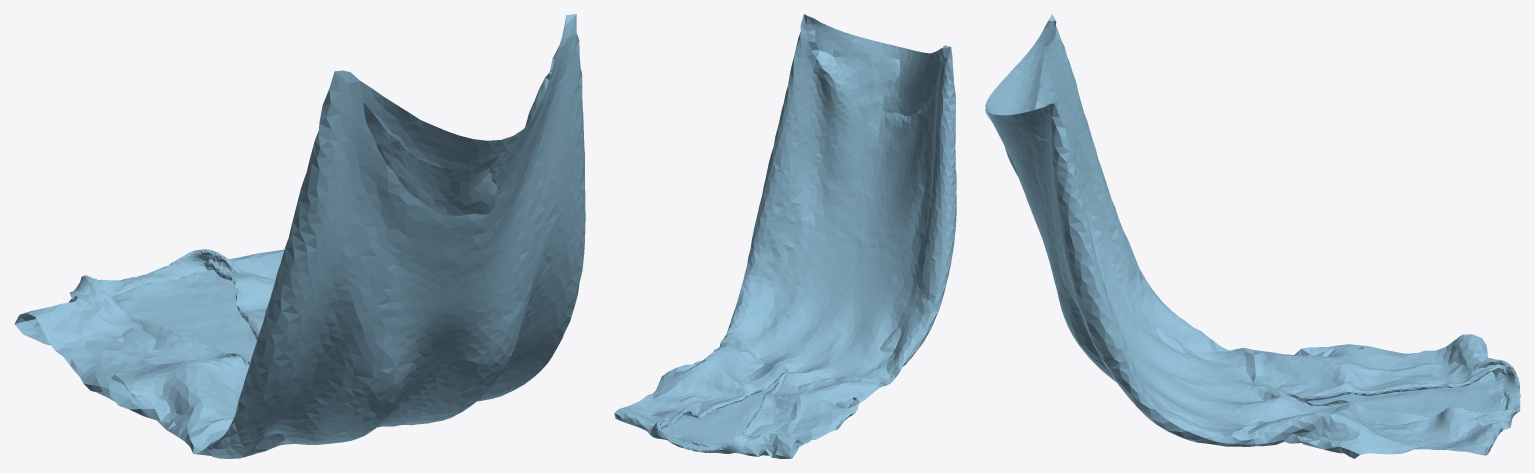
The model's file is frame_08.glb.
3 views of the same model, side by side, from view 1: azimuth 30°, elevation 25°; view 2: azimuth 150°, elevation 25°; view 3: azimuth 270°, elevation 25° (orthographic). The views are drawn at different scales.
Visible parts, largest first — view 1: frame_08.obj; view 2: frame_08.obj; view 3: frame_08.obj.
Boxes of the visible parts, x1,y1,x2,y2 form: frame_08.obj: [14, 14, 585, 458]; frame_08.obj: [614, 14, 956, 458]; frame_08.obj: [985, 14, 1520, 458].
Bounding box in the file's own units: 0.6394 × 0.8971 × 1.24.
